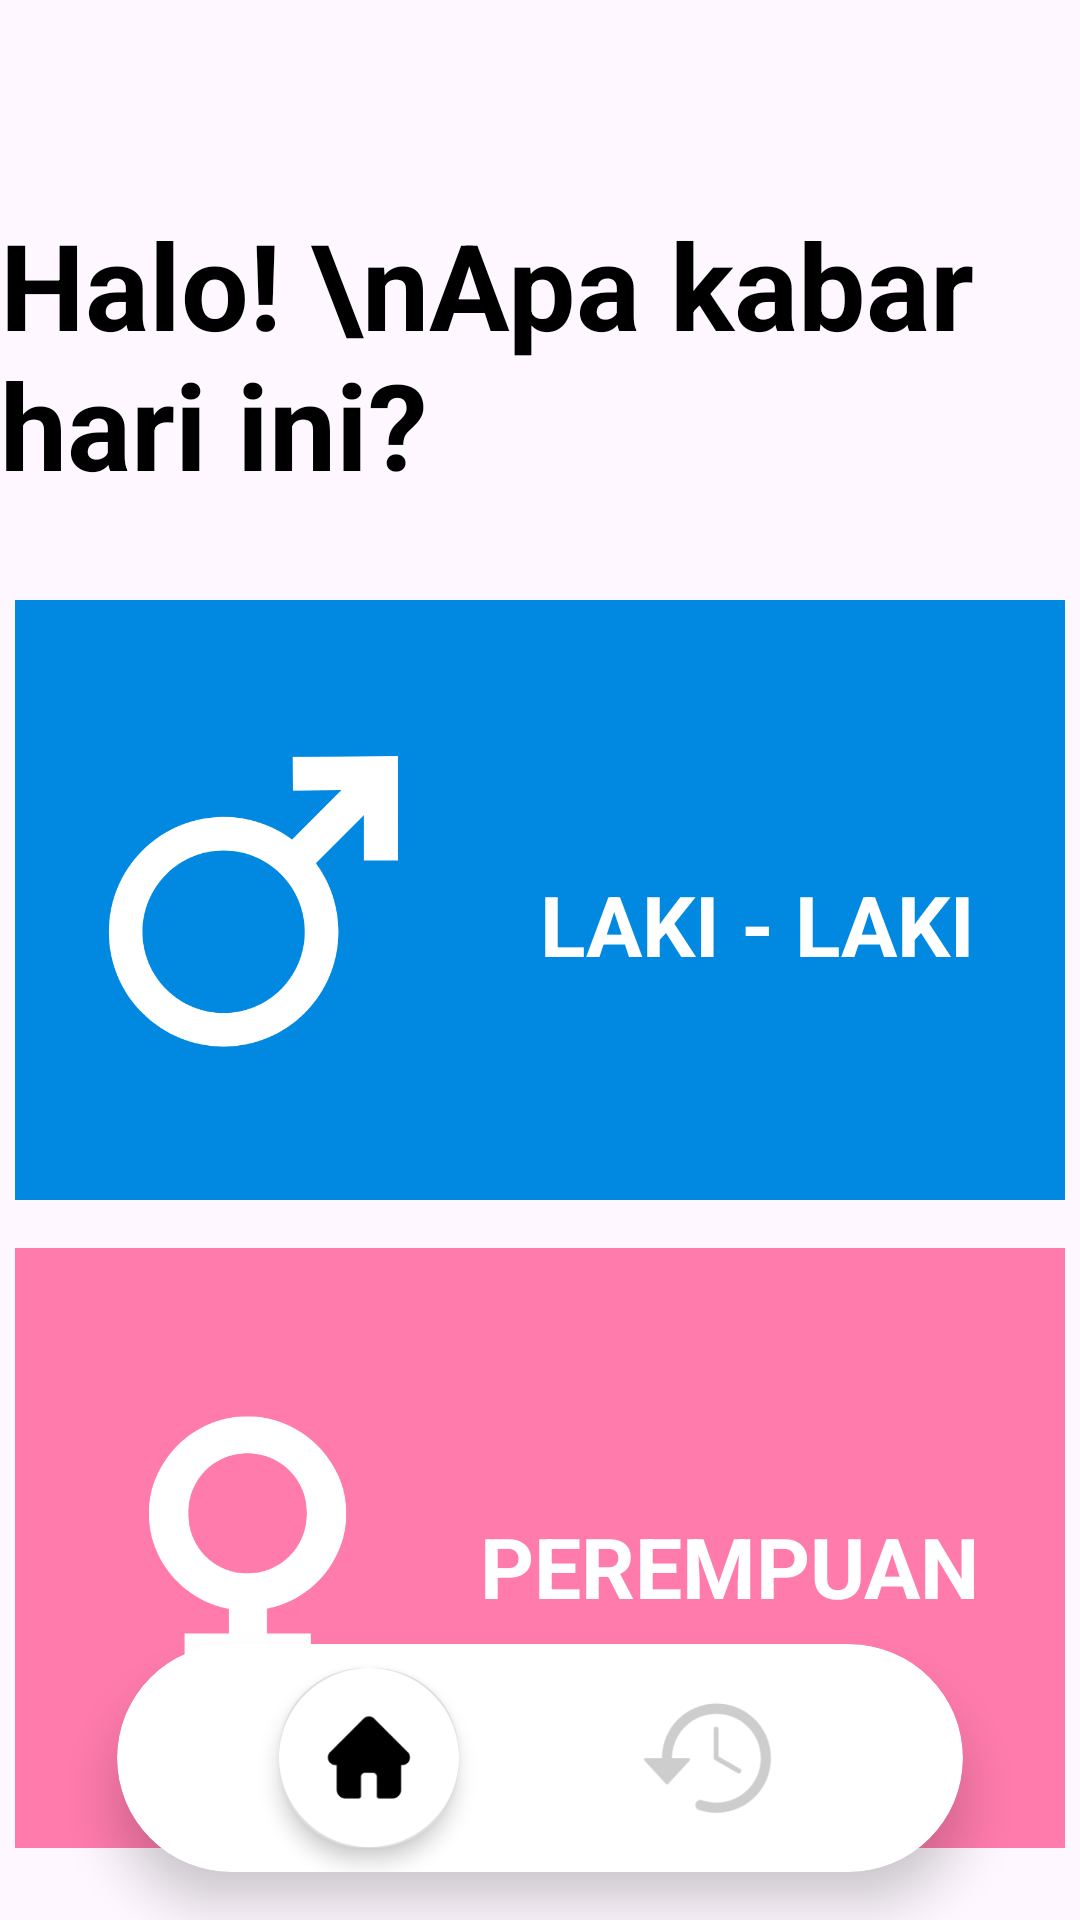

Named icons in this screenshot (1080*1920) and their centers, [x,y]:
Home: [369,1735]
